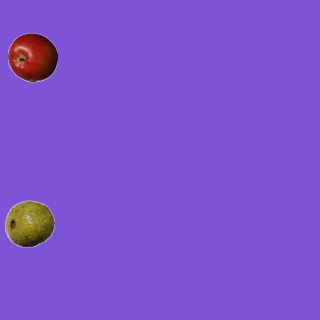Apple Braeburn: (7, 32, 57, 82)
Guava: (4, 198, 54, 248)
